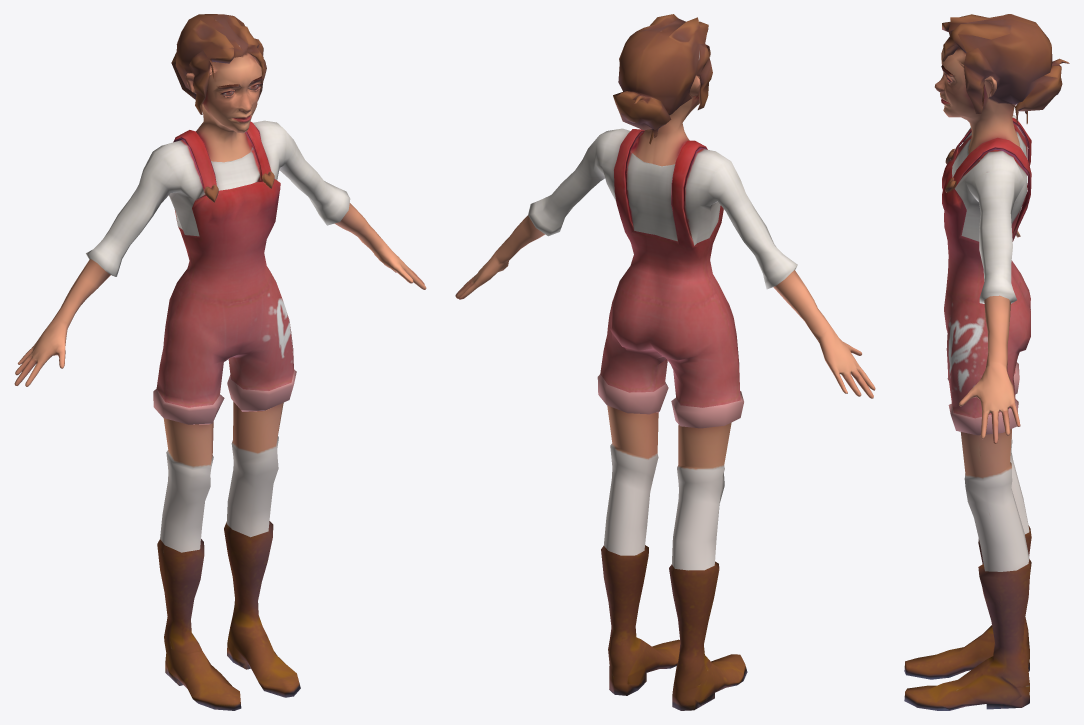
3 renders of one model, left to right at view 1: azimuth 30°, elevation 25°; view 2: azimuth 150°, elevation 25°; view 3: azimuth 270°, elevation 25°, orthographic. The views are drawn at different scales.
Parts seen in each view (by area): view 1: Character_Low; view 2: Character_Low; view 3: Character_Low.
Part boxes in pixels (bbox=[...]): Character_Low: bbox=[14, 14, 426, 710]; Character_Low: bbox=[455, 14, 875, 710]; Character_Low: bbox=[904, 14, 1069, 710].
Size of the model in its own units: 1.32 by 2 by 0.4484.
Materials: 1 (1 with a texture image).
